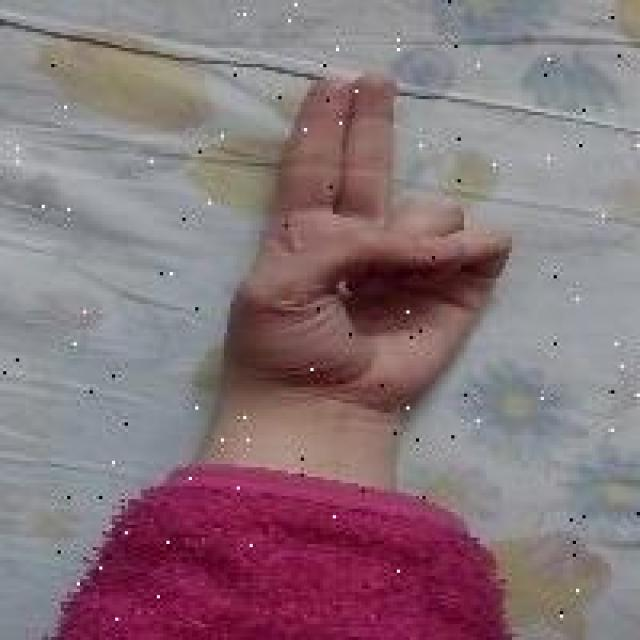U: (226, 75, 516, 405)
